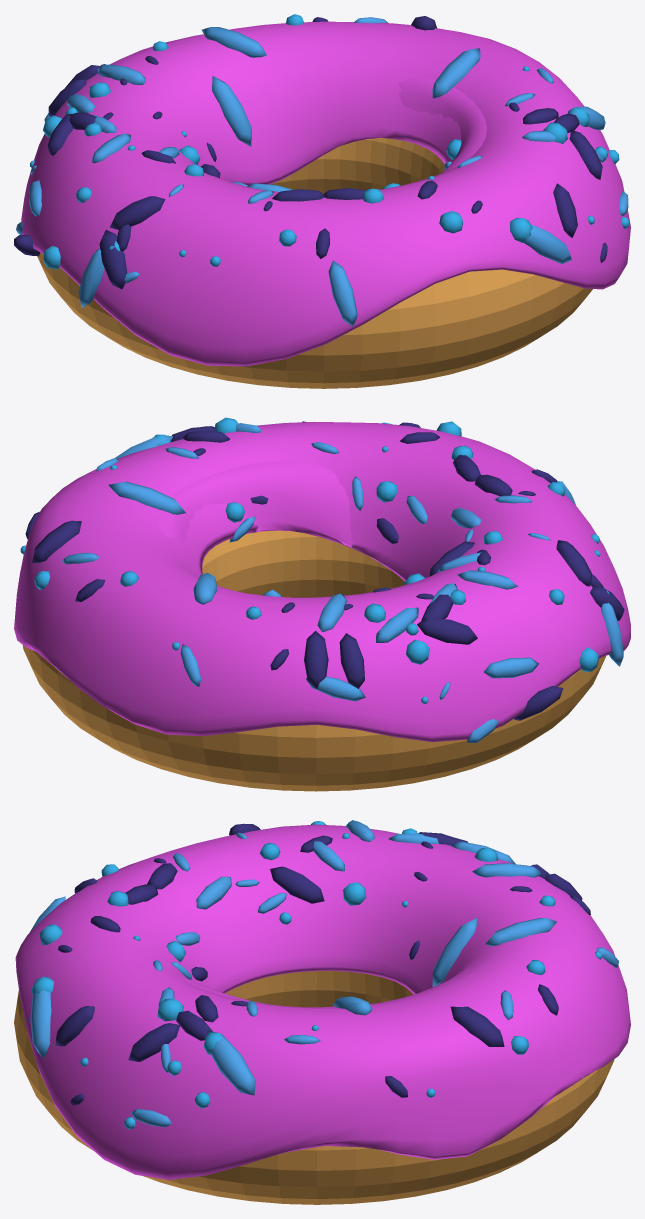
Rendered from Donut.glb.
3 renders of one model, top to bottom at view 1: azimuth 30°, elevation 25°; view 2: azimuth 150°, elevation 25°; view 3: azimuth 270°, elevation 25°, orthographic. The views are drawn at different scales.
Visible parts, largest first — view 1: Torus.014, Donut; view 2: Torus.014, Donut; view 3: Torus.014, Donut.
Boxes of the visible parts, x1=… form: Torus.014: x1=14, y1=14, x2=630, y2=366; Donut: x1=37, y1=138, x2=592, y2=388; Torus.014: x1=14, y1=417, x2=630, y2=742; Donut: x1=22, y1=530, x2=605, y2=791; Torus.014: x1=15, y1=820, x2=630, y2=1179; Donut: x1=14, y1=971, x2=614, y2=1204.
Size of the model in its own units: 0.1799 by 0.0596 by 0.1744.
